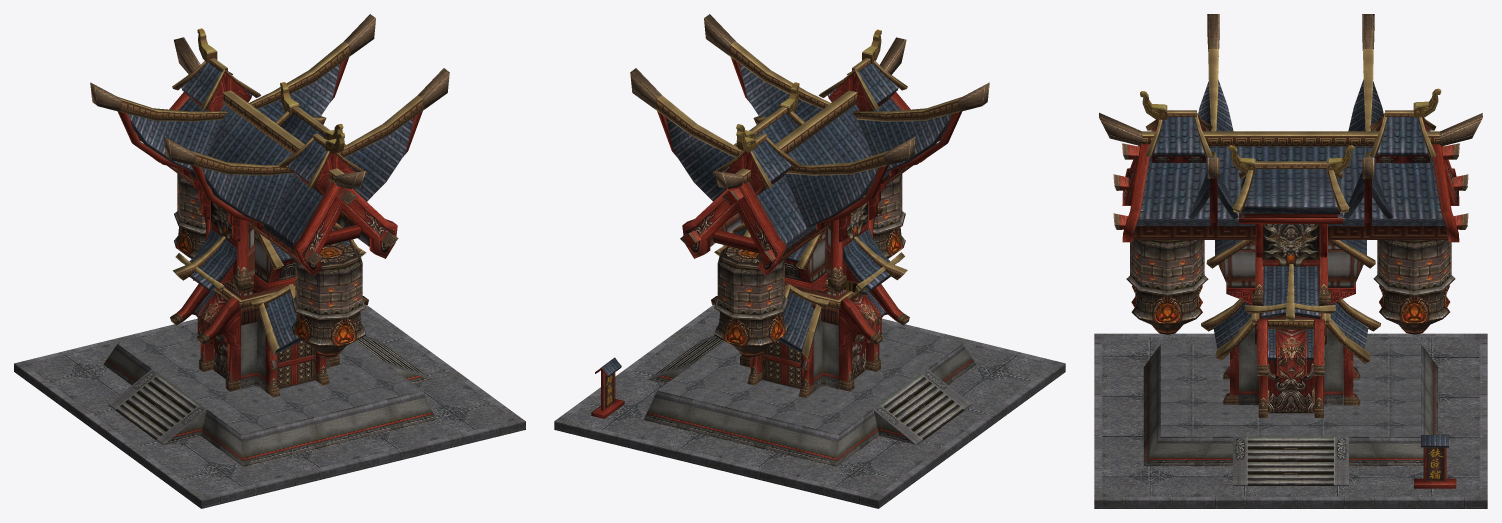
File: Yland1_fz_08 Yland1.FBX
3 views of the same model, side by side, from view 1: azimuth 30°, elevation 25°; view 2: azimuth 150°, elevation 25°; view 3: azimuth 270°, elevation 25° (orthographic). The views are drawn at different scales.
Parts seen in each view (by area): view 1: Yland1_fz_08 Yland1; view 2: Yland1_fz_08 Yland1; view 3: Yland1_fz_08 Yland1.
Boxes of the visible parts, x1=… form: Yland1_fz_08 Yland1: x1=14, y1=14, x2=525, y2=508; Yland1_fz_08 Yland1: x1=554, y1=14, x2=1065, y2=508; Yland1_fz_08 Yland1: x1=1094, y1=14, x2=1487, y2=508.
Size of the model in its own units: 14.38 by 13.71 by 14.38.
